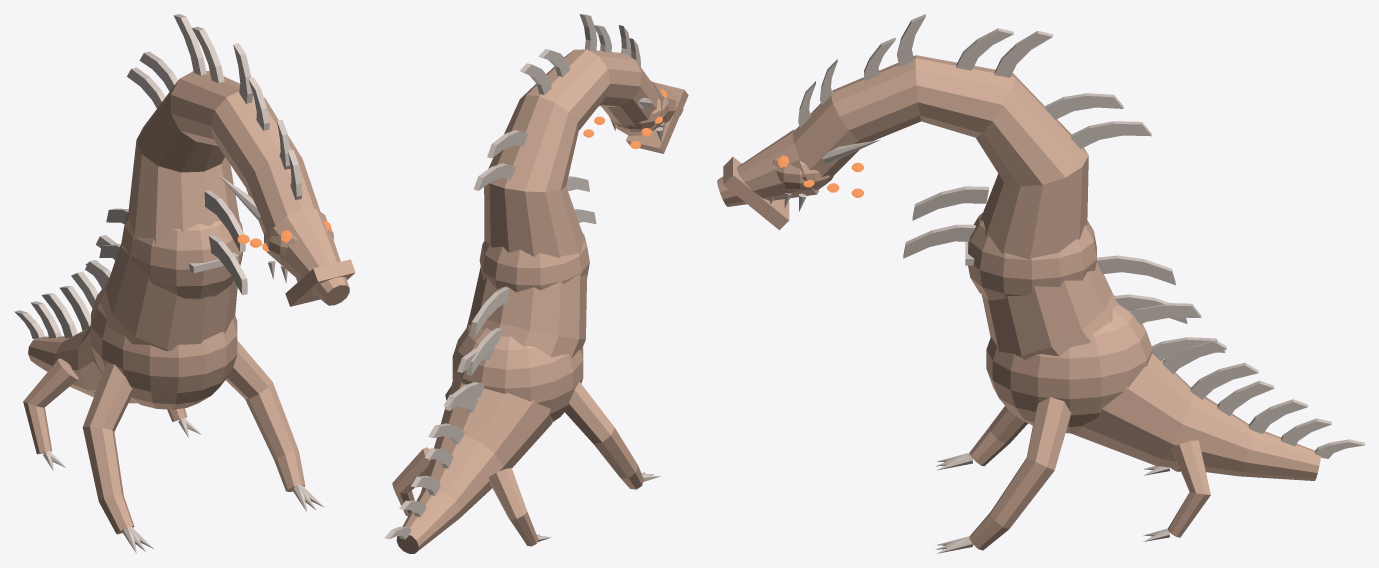
Rendered from pitwyrm.glb.
The picture shows the model from 3 angles, left to right: view 1: azimuth 30°, elevation 25°; view 2: azimuth 150°, elevation 25°; view 3: azimuth 270°, elevation 25°; orthographic projection. The views are drawn at different scales.
Parts seen in each view (by area): view 1: pitwyrm_body, pitwyrm_bone; view 2: pitwyrm_body, pitwyrm_bone, pitwyrm_glow; view 3: pitwyrm_body, pitwyrm_bone.
Part boxes in pixels (<box>): pitwyrm_body: <box>23,71,355,534</box>; pitwyrm_bone: <box>14,14,324,553</box>; pitwyrm_body: <box>392,49,688,553</box>; pitwyrm_bone: <box>384,14,664,542</box>; pitwyrm_glow: <box>583,89,667,148</box>; pitwyrm_body: <box>717,55,1320,550</box>; pitwyrm_bone: <box>770,14,1364,553</box>.
Bounding box in the file's own units: 1.68 × 4 × 4.77.
